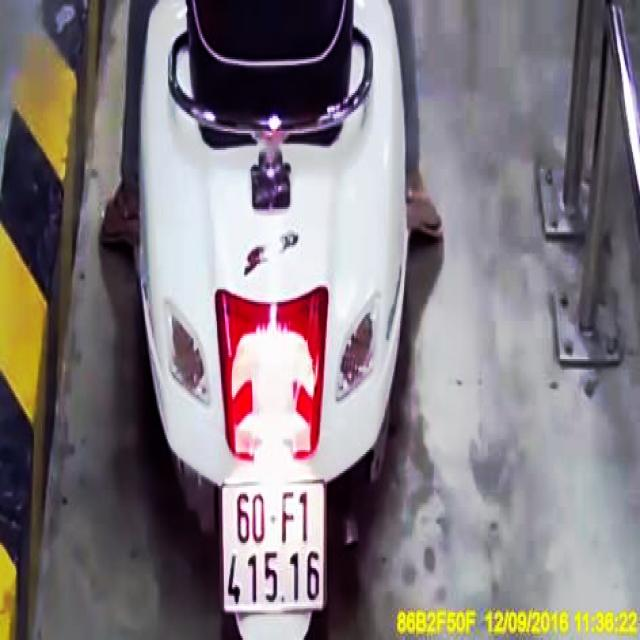license_plate: (224, 482, 325, 609)
